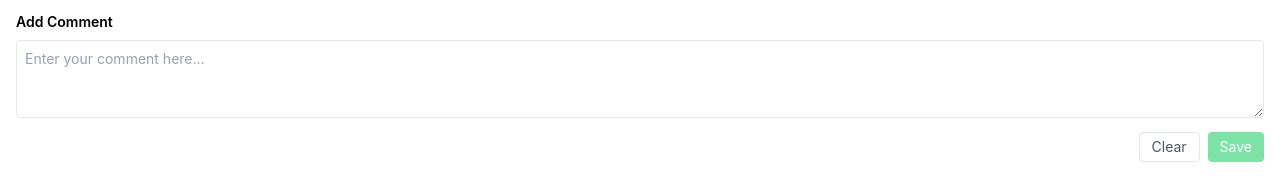
Test: CommentUI › saves and clears the textarea when a selection exists
The width and height of the screenshot is (1280, 179).
In the text box with placeholder "Enter your comment here...": (640, 79) [16,40,1264,118], type "looks good"
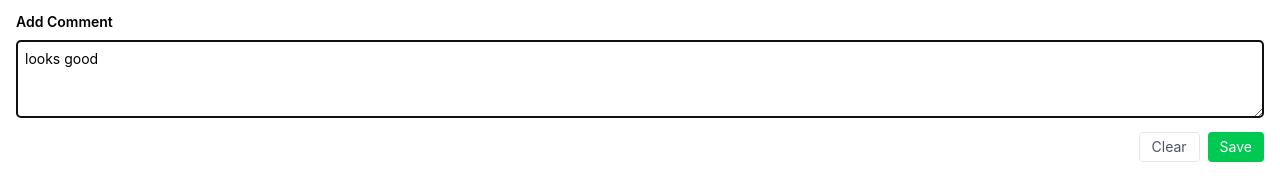
Click the button "Save": (1236, 147) [1208,132,1264,162]
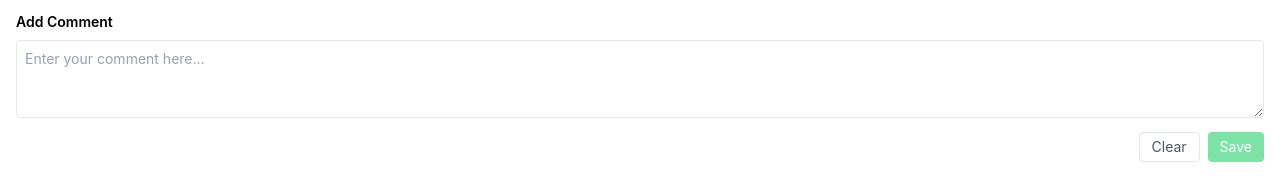
Check: the text box with placeholder "Enter your comment here..." is empty, box [16,40,1264,118]
